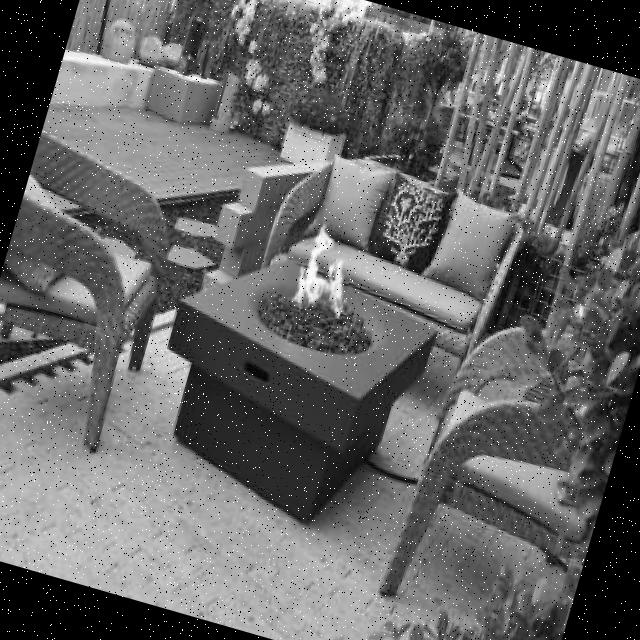fire: (280, 222, 361, 319)
